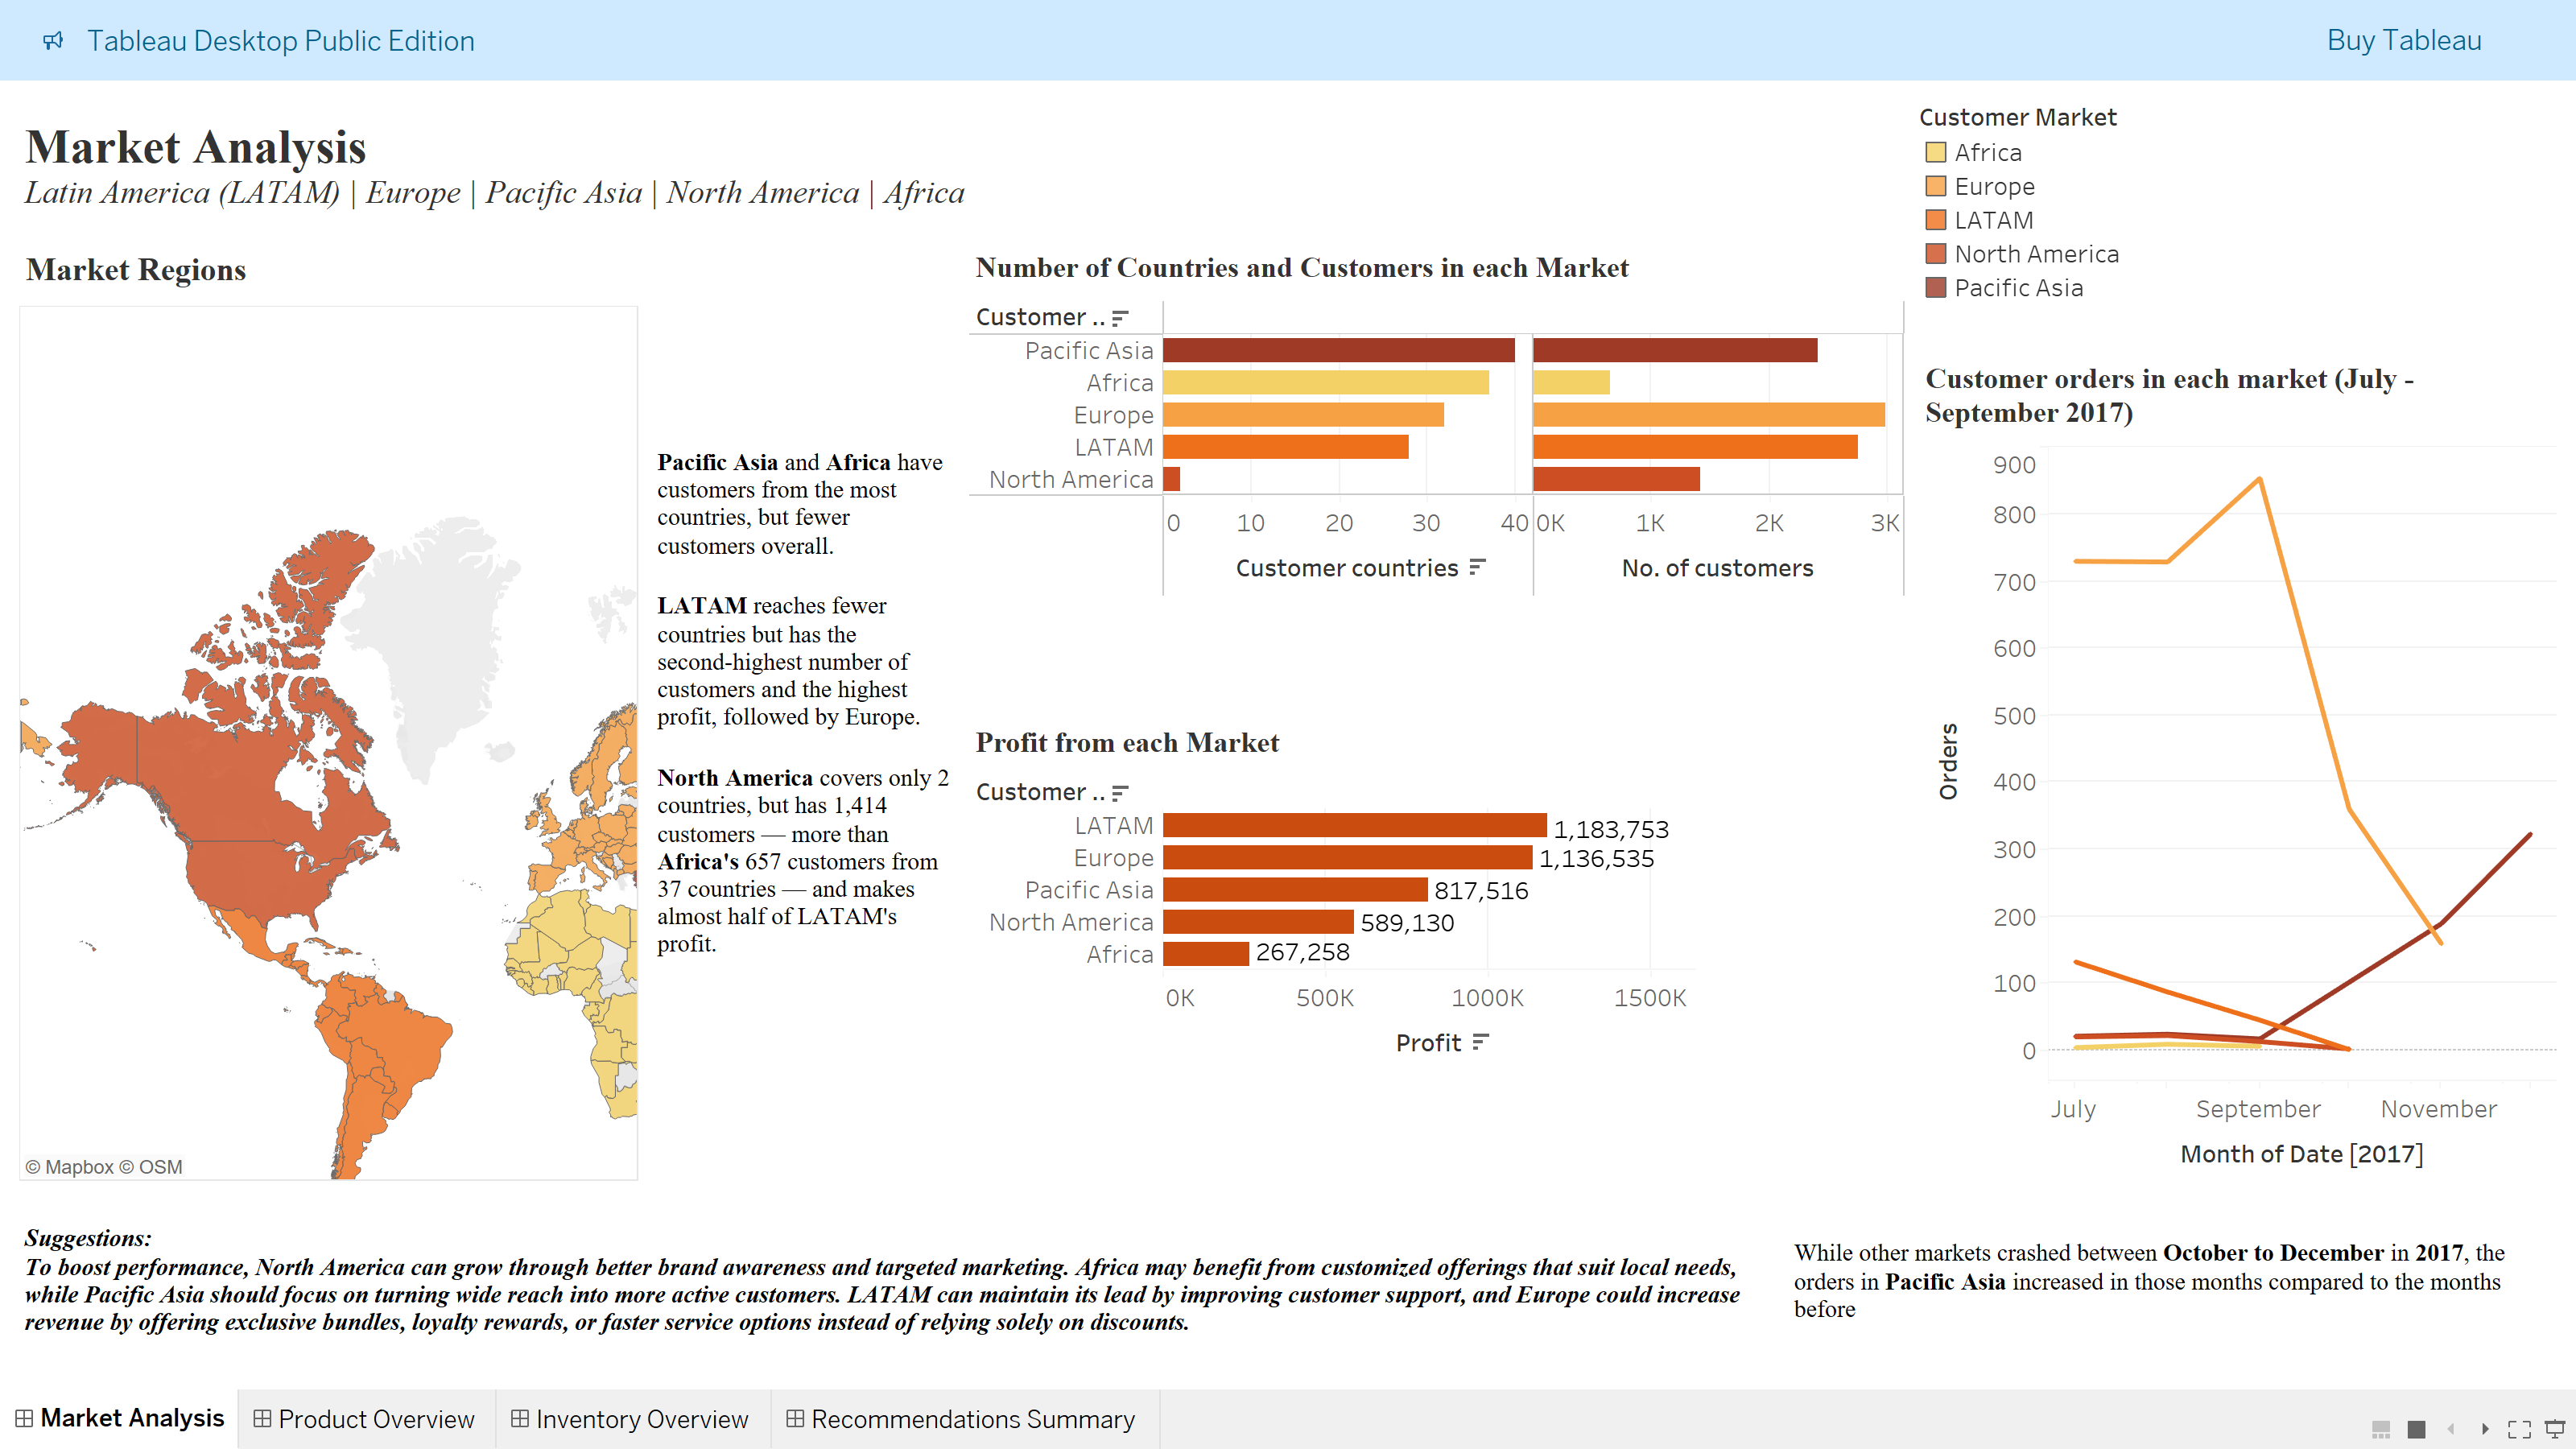

The page's visual inventory and layout, read from the dashboard file:
{"tool":"tableau","page":{"name":"Market Analysis","canvas":[1000,1000],"units":"permille","ordinal":1},"visuals":[{"type":"title","box":[6,12.9,685.9,144.7]},{"type":"legend","title":"Sheet 14","param":"[federated.1p3jwe11lrjc0614ro7zn1ldq7go].[none:Customer Market:nk]","box":[691.9,12.9,302.2,255.6]},{"type":"worksheet","title":"Sheet 14","mark":"Multipolygon","box":[6,157.6,228.3,686.4]},{"type":"text","box":[234.3,157.6,114.4,686.4]},{"type":"worksheet","title":"Sheet 16","mark":"Automatic","rows":["Customer Market"],"cols":["Customer Country","Customer ID"],"box":[348.7,157.6,343.2,342.9]},{"type":"worksheet","title":"Sheet 18","mark":"Automatic","rows":["Product Name (orders!and!shipments)"],"cols":["Calculation_446419315558359043"],"box":[691.9,268.5,302.2,575.5]},{"type":"worksheet","title":"Sheet 15","mark":"Automatic","rows":["Customer Market"],"cols":["Profit"],"box":[348.7,500.5,343.2,343.5]},{"type":"text","box":[6,844,685.8,143.2]},{"type":"text","box":[691.8,844,302.2,143.2]}]}

Visuals, with their boxes on the dashboard's canvas, which has no fixed pixel size, in thousandths of its width and height (x1, y1, x2, y2). These are canvas units, not pixel positions in the 2576x1449 screenshot, which may show the page scaled, cropped or inside an application window:
title: detection(6, 13, 692, 158)
"Sheet 14" legend: detection(692, 13, 994, 268)
"Sheet 14" worksheet (Multipolygon marks): detection(6, 158, 234, 844)
text: detection(234, 158, 349, 844)
"Sheet 16" worksheet: detection(349, 158, 692, 500)
"Sheet 18" worksheet: detection(692, 268, 994, 844)
"Sheet 15" worksheet: detection(349, 500, 692, 844)
text: detection(6, 844, 692, 987)
text: detection(692, 844, 994, 987)
